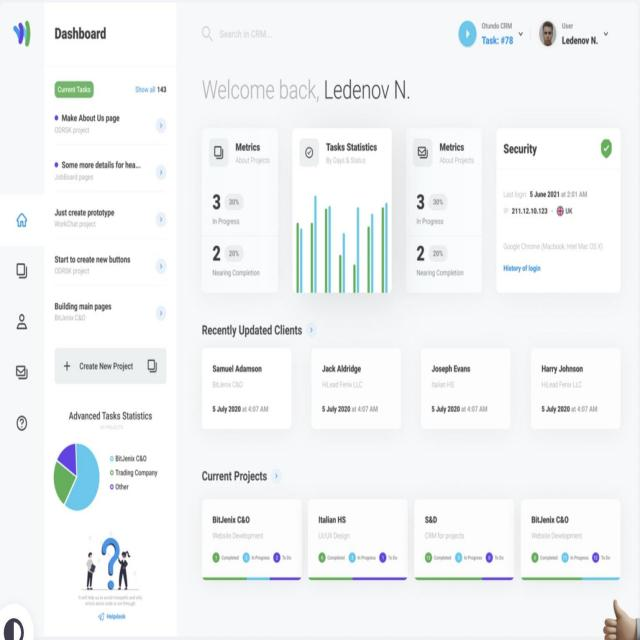button: (55, 348, 167, 384)
input: (196, 16, 316, 51)
